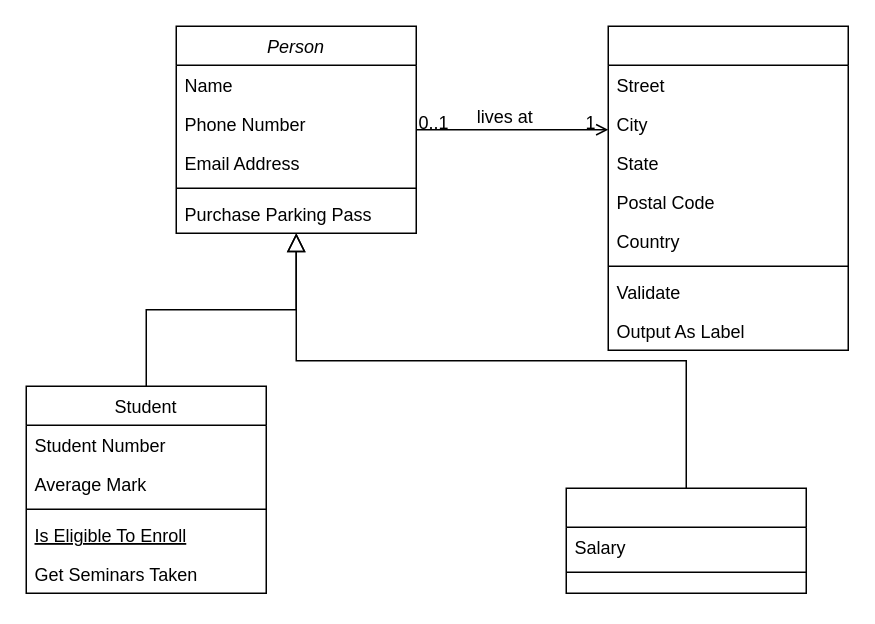
Image size: 875x624. Some labels were removed from this diagram. The shapes that lost their labels are listed below. From the top down, each one's box as (x1, y1, x2, y2) in pixels, then its label:
(607, 25, 848, 350): Address
(565, 487, 806, 593): Test
